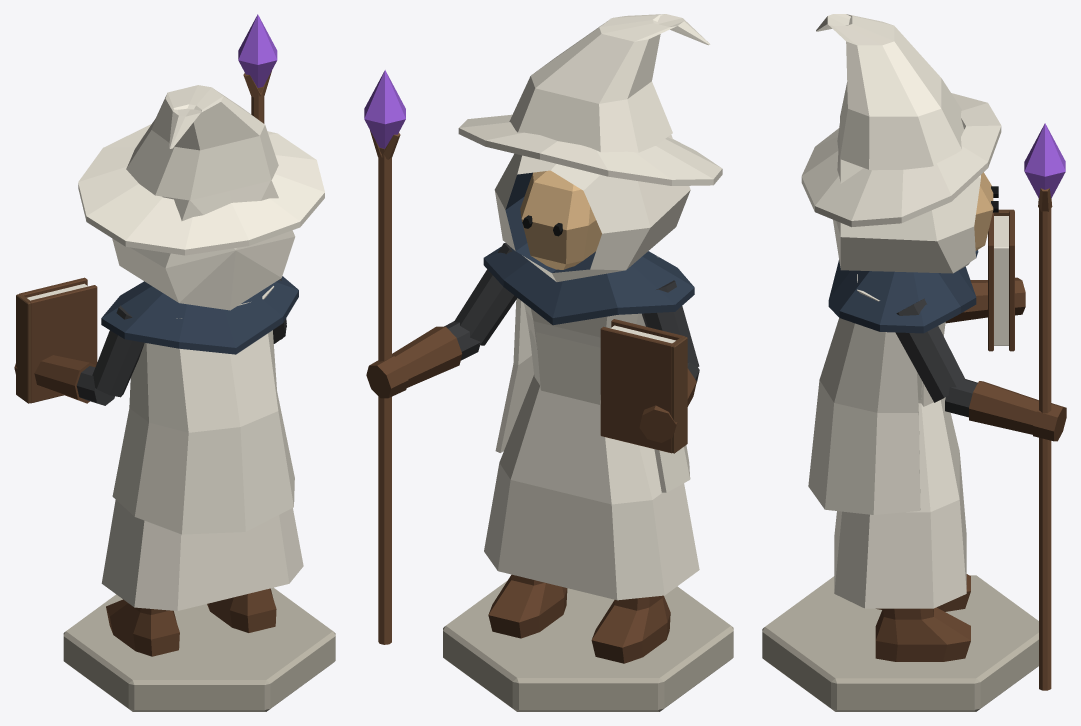
Rendered from human_mage_t4.glb.
3 renders of one model, left to right at view 1: azimuth 30°, elevation 25°; view 2: azimuth 150°, elevation 25°; view 3: azimuth 270°, elevation 25°, orthographic. The views are drawn at different scales.
Visible parts, largest first — view 1: Caster_Short_Back_Cape, Foundation_Hexagonal_Stone, Mage_One_Broad_Thin_Wizard_Brim, Caster_Continuous_Long_Robe, Mage_One_Left_Back_Bent_Wizard_Hat, Caster_Open_Low_Cowl, Plain_Caster_Shoulder_Mantle, Mage_Spellbook_Rear_Leather_Cover, Boot_-1, left_upper_sleeve, Boot_1, Mage_Exactly_One_Violet_Diamond_Crystal (+3 smaller); view 2: Caster_Continuous_Long_Robe, Foundation_Hexagonal_Stone, Mage_One_Left_Back_Bent_Wizard_Hat, Caster_Open_Low_Cowl, Plain_Caster_Shoulder_Mantle, Mage_One_Broad_Thin_Wizard_Brim, Mage_Spellbook_Front_Leather_Cover, Mage_One_Plain_Wooden_Staff_Shaft, Angular_Face, Boot_-1, Continuous_Tunic_Bodice, Caster_Short_Back_Cape (+9 smaller); view 3: Foundation_Hexagonal_Stone, Caster_Short_Back_Cape, Caster_Continuous_Long_Robe, Mage_One_Left_Back_Bent_Wizard_Hat, Mage_One_Broad_Thin_Wizard_Brim, Caster_Open_Low_Cowl, Plain_Caster_Shoulder_Mantle, Mage_One_Plain_Wooden_Staff_Shaft, Boot_1, right_upper_sleeve, right_bracer, Mage_Spellbook_One_Plain_Page_Block (+7 smaller).
Part boxes in pixels (x1,y1,x2,y2): Caster_Short_Back_Cape: (112, 330, 294, 534); Foundation_Hexagonal_Stone: (63, 587, 335, 711); Mage_One_Broad_Thin_Wizard_Brim: (78, 124, 324, 255); Caster_Continuous_Long_Robe: (101, 286, 303, 610); Mage_One_Left_Back_Bent_Wizard_Hat: (126, 85, 278, 200); Caster_Open_Low_Cowl: (112, 180, 295, 310); Plain_Caster_Shoulder_Mantle: (101, 276, 298, 354); Mage_Spellbook_Rear_Leather_Cover: (29, 285, 97, 403); Boot_-1: (106, 599, 179, 656); left_upper_sleeve: (92, 305, 144, 397); Boot_1: (207, 588, 276, 632); Mage_Exactly_One_Violet_Diamond_Crystal: (238, 14, 277, 87); Caster_Continuous_Long_Robe: (484, 256, 699, 600); Foundation_Hexagonal_Stone: (443, 580, 733, 711); Mage_One_Left_Back_Bent_Wizard_Hat: (509, 14, 710, 152); Caster_Open_Low_Cowl: (494, 134, 690, 281); Plain_Caster_Shoulder_Mantle: (483, 247, 694, 325); Mage_One_Broad_Thin_Wizard_Brim: (458, 114, 722, 185); Mage_Spellbook_Front_Leather_Cover: (600, 326, 673, 453); Mage_One_Plain_Wooden_Staff_Shaft: (378, 147, 391, 644); Angular_Face: (520, 170, 601, 269); Boot_-1: (591, 595, 670, 663); Continuous_Tunic_Bodice: (529, 330, 600, 404); Caster_Short_Back_Cape: (495, 298, 690, 492); Foundation_Hexagonal_Stone: (762, 575, 1038, 711); Caster_Short_Back_Cape: (808, 318, 920, 514); Caster_Continuous_Long_Robe: (834, 274, 966, 608); Mage_One_Left_Back_Bent_Wizard_Hat: (816, 14, 964, 169); Mage_One_Broad_Thin_Wizard_Brim: (801, 93, 1001, 227); Caster_Open_Low_Cowl: (833, 123, 980, 273); Plain_Caster_Shoulder_Mantle: (828, 260, 976, 333); Mage_One_Plain_Wooden_Staff_Shaft: (1039, 206, 1051, 690); Boot_1: (875, 607, 970, 661); right_upper_sleeve: (895, 298, 965, 402); right_bracer: (969, 381, 1038, 434); Mage_Spellbook_One_Plain_Page_Block: (994, 216, 1008, 345).
Bounding box in the file's own units: 1.09 × 2.2 × 0.983.
